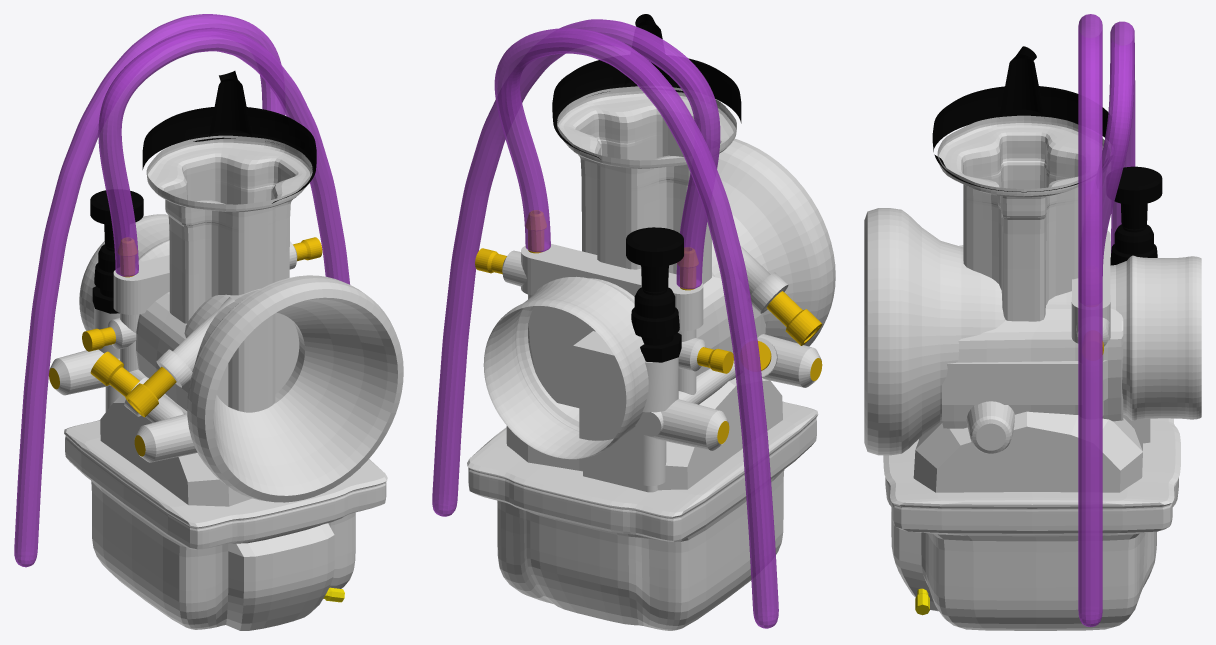
The model's file is free_carburetor_pwk_35.glb.
The picture shows the model from 3 angles, left to right: view 1: azimuth 30°, elevation 25°; view 2: azimuth 150°, elevation 25°; view 3: azimuth 270°, elevation 25°; orthographic projection. The views are drawn at different scales.
Parts seen in each view (by area): view 1: Object_7, Object_5, Object_6, Object_10, Object_9, Object_8, Object_4, Object_3; view 2: Object_5, Object_6, Object_7, Object_10, Object_9, Object_3, Object_8, Object_4; view 3: Object_6, Object_5, Object_7, Object_9, Object_8, Object_10.
Part boxes in pixels (x1,y1,x2,y2): Object_7: (49, 241, 403, 502); Object_5: (64, 377, 387, 630); Object_6: (79, 135, 312, 506); Object_10: (14, 14, 285, 567); Object_9: (98, 27, 350, 284); Object_8: (90, 71, 316, 313); Object_4: (49, 237, 322, 456); Object_3: (94, 307, 121, 411); Object_5: (467, 337, 818, 630); Object_6: (483, 86, 795, 494); Object_7: (502, 139, 835, 450); Object_10: (494, 28, 778, 628); Object_9: (432, 19, 720, 516); Object_3: (573, 331, 678, 492); Object_8: (552, 14, 741, 362); Object_4: (475, 210, 822, 444); Object_6: (937, 115, 1201, 502); Object_5: (883, 411, 1180, 630); Object_7: (864, 208, 1110, 455); Object_9: (1078, 14, 1102, 626); Object_8: (932, 46, 1162, 265); Object_10: (1096, 21, 1135, 275).
Bounding box in the file's own units: 1.94 × 3.06 × 1.63.
